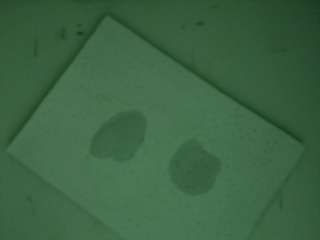Water_detected: (179, 152, 219, 192), (99, 124, 138, 165)
